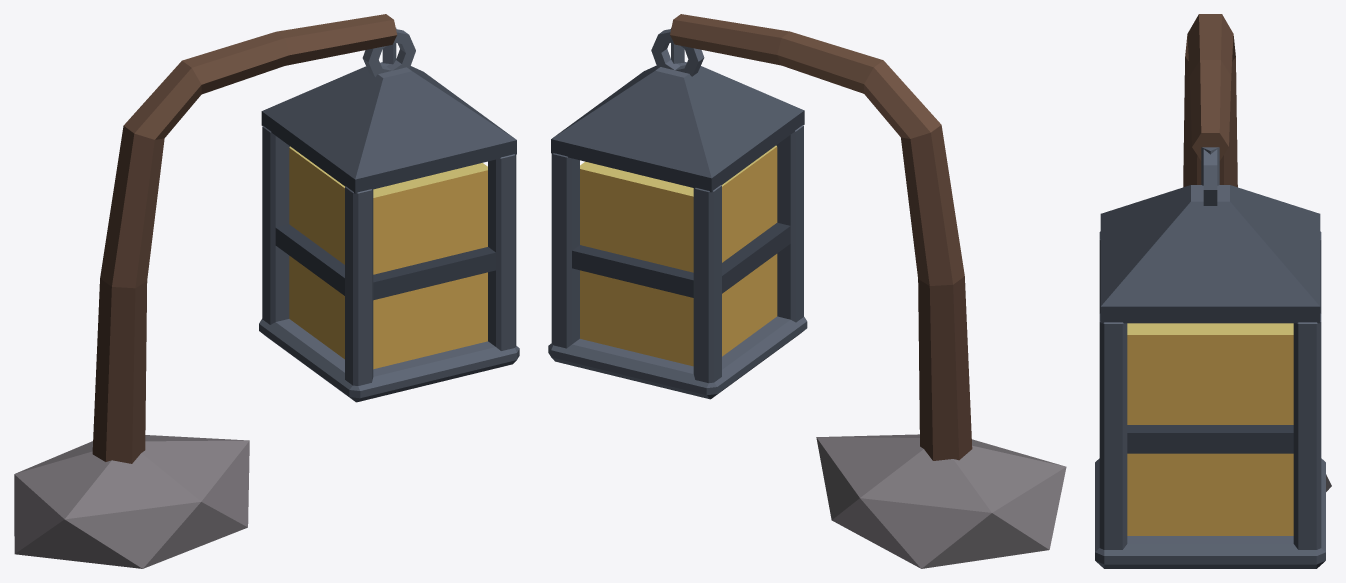
File: habitat_prop_boo.fbx
3 renders of one model, left to right at view 1: azimuth 30°, elevation 25°; view 2: azimuth 150°, elevation 25°; view 3: azimuth 270°, elevation 25°, orthographic. The views are drawn at different scales.
Visible parts, largest first — view 1: habitat_prop_boo; view 2: habitat_prop_boo; view 3: habitat_prop_boo.
Boxes of the visible parts, bbox=[...] form: habitat_prop_boo: bbox=[14, 14, 519, 568]; habitat_prop_boo: bbox=[548, 14, 1066, 568]; habitat_prop_boo: bbox=[1095, 14, 1331, 568].
Size of the model in its own units: 1.35 by 1.35 by 0.5129.
